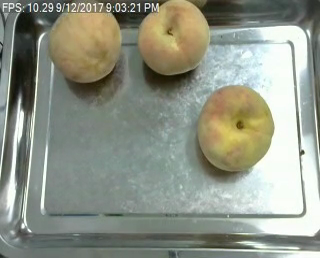Peach: (195, 83, 276, 170), (47, 1, 122, 83), (138, 0, 210, 76)
